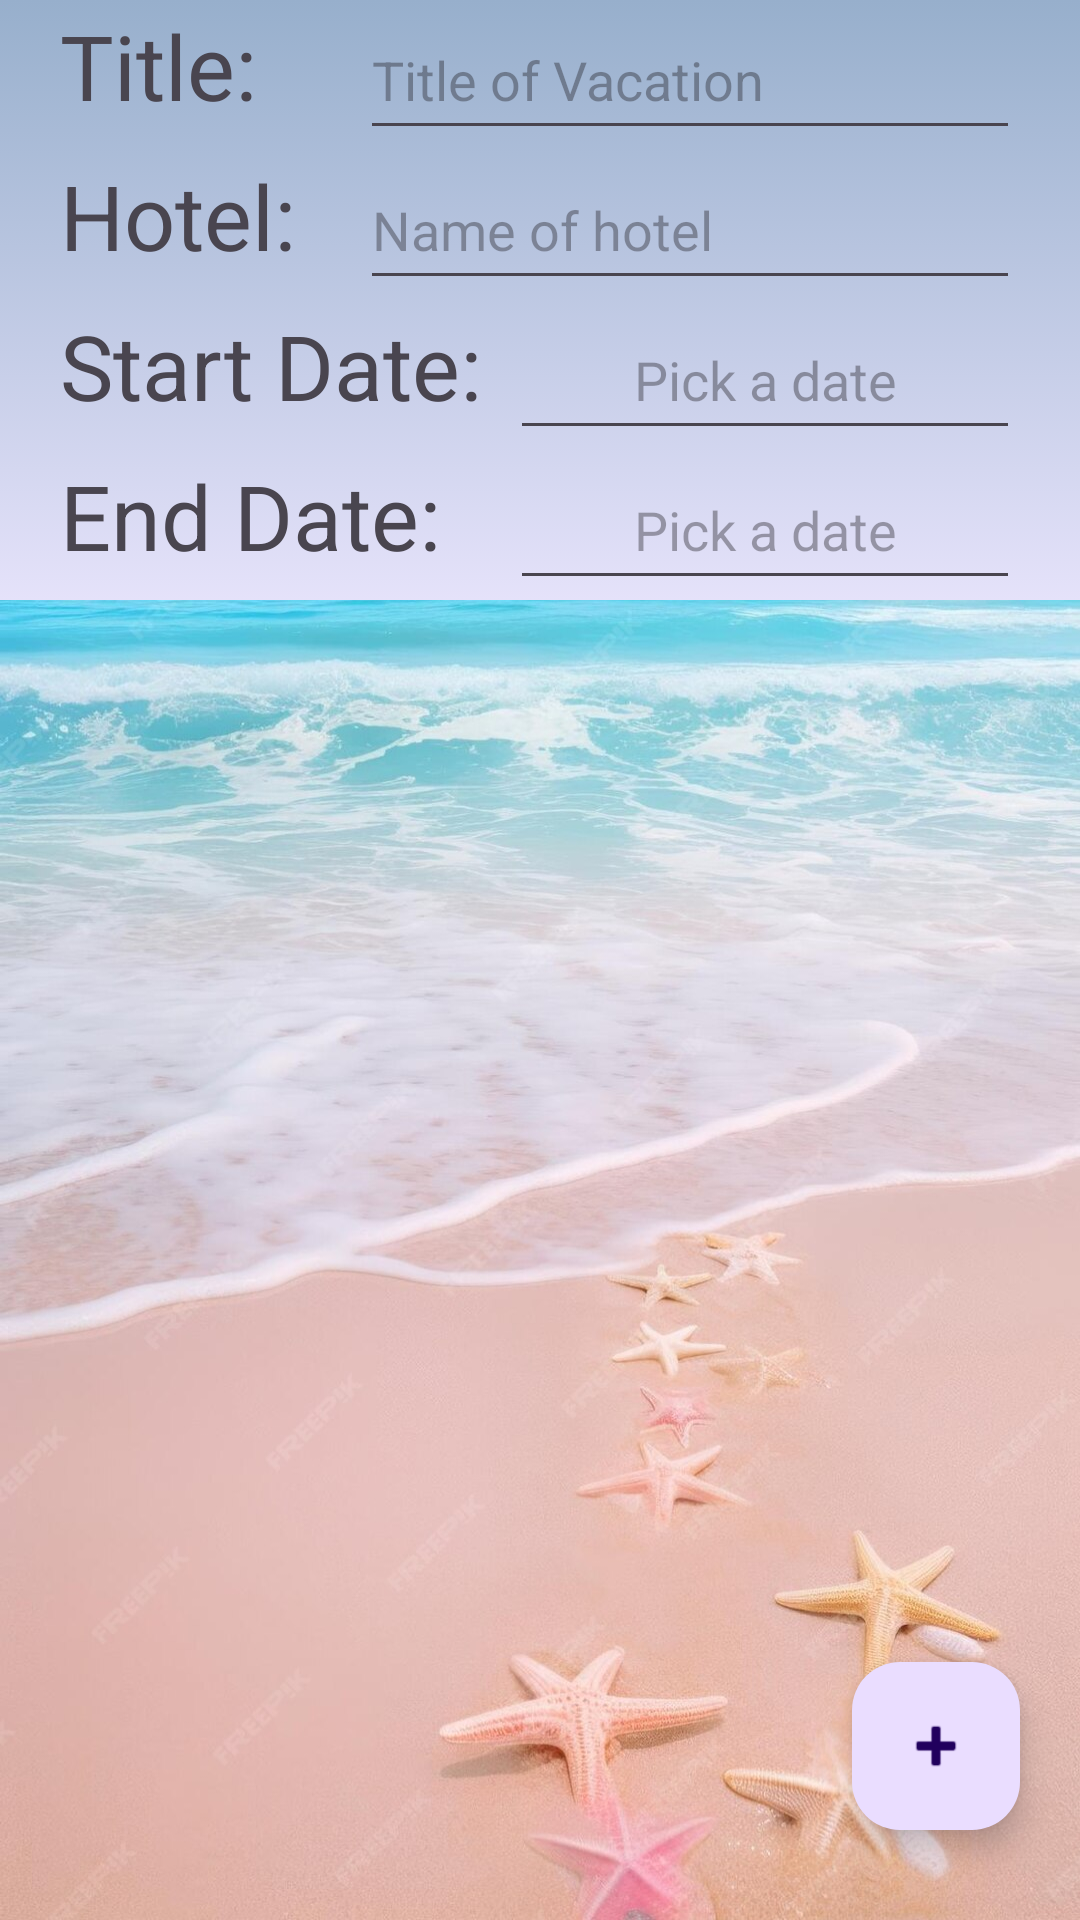

Icons on this 1080px×1920px Android screen, each with the point to tap as [x,y]:
add: [936,1746]
